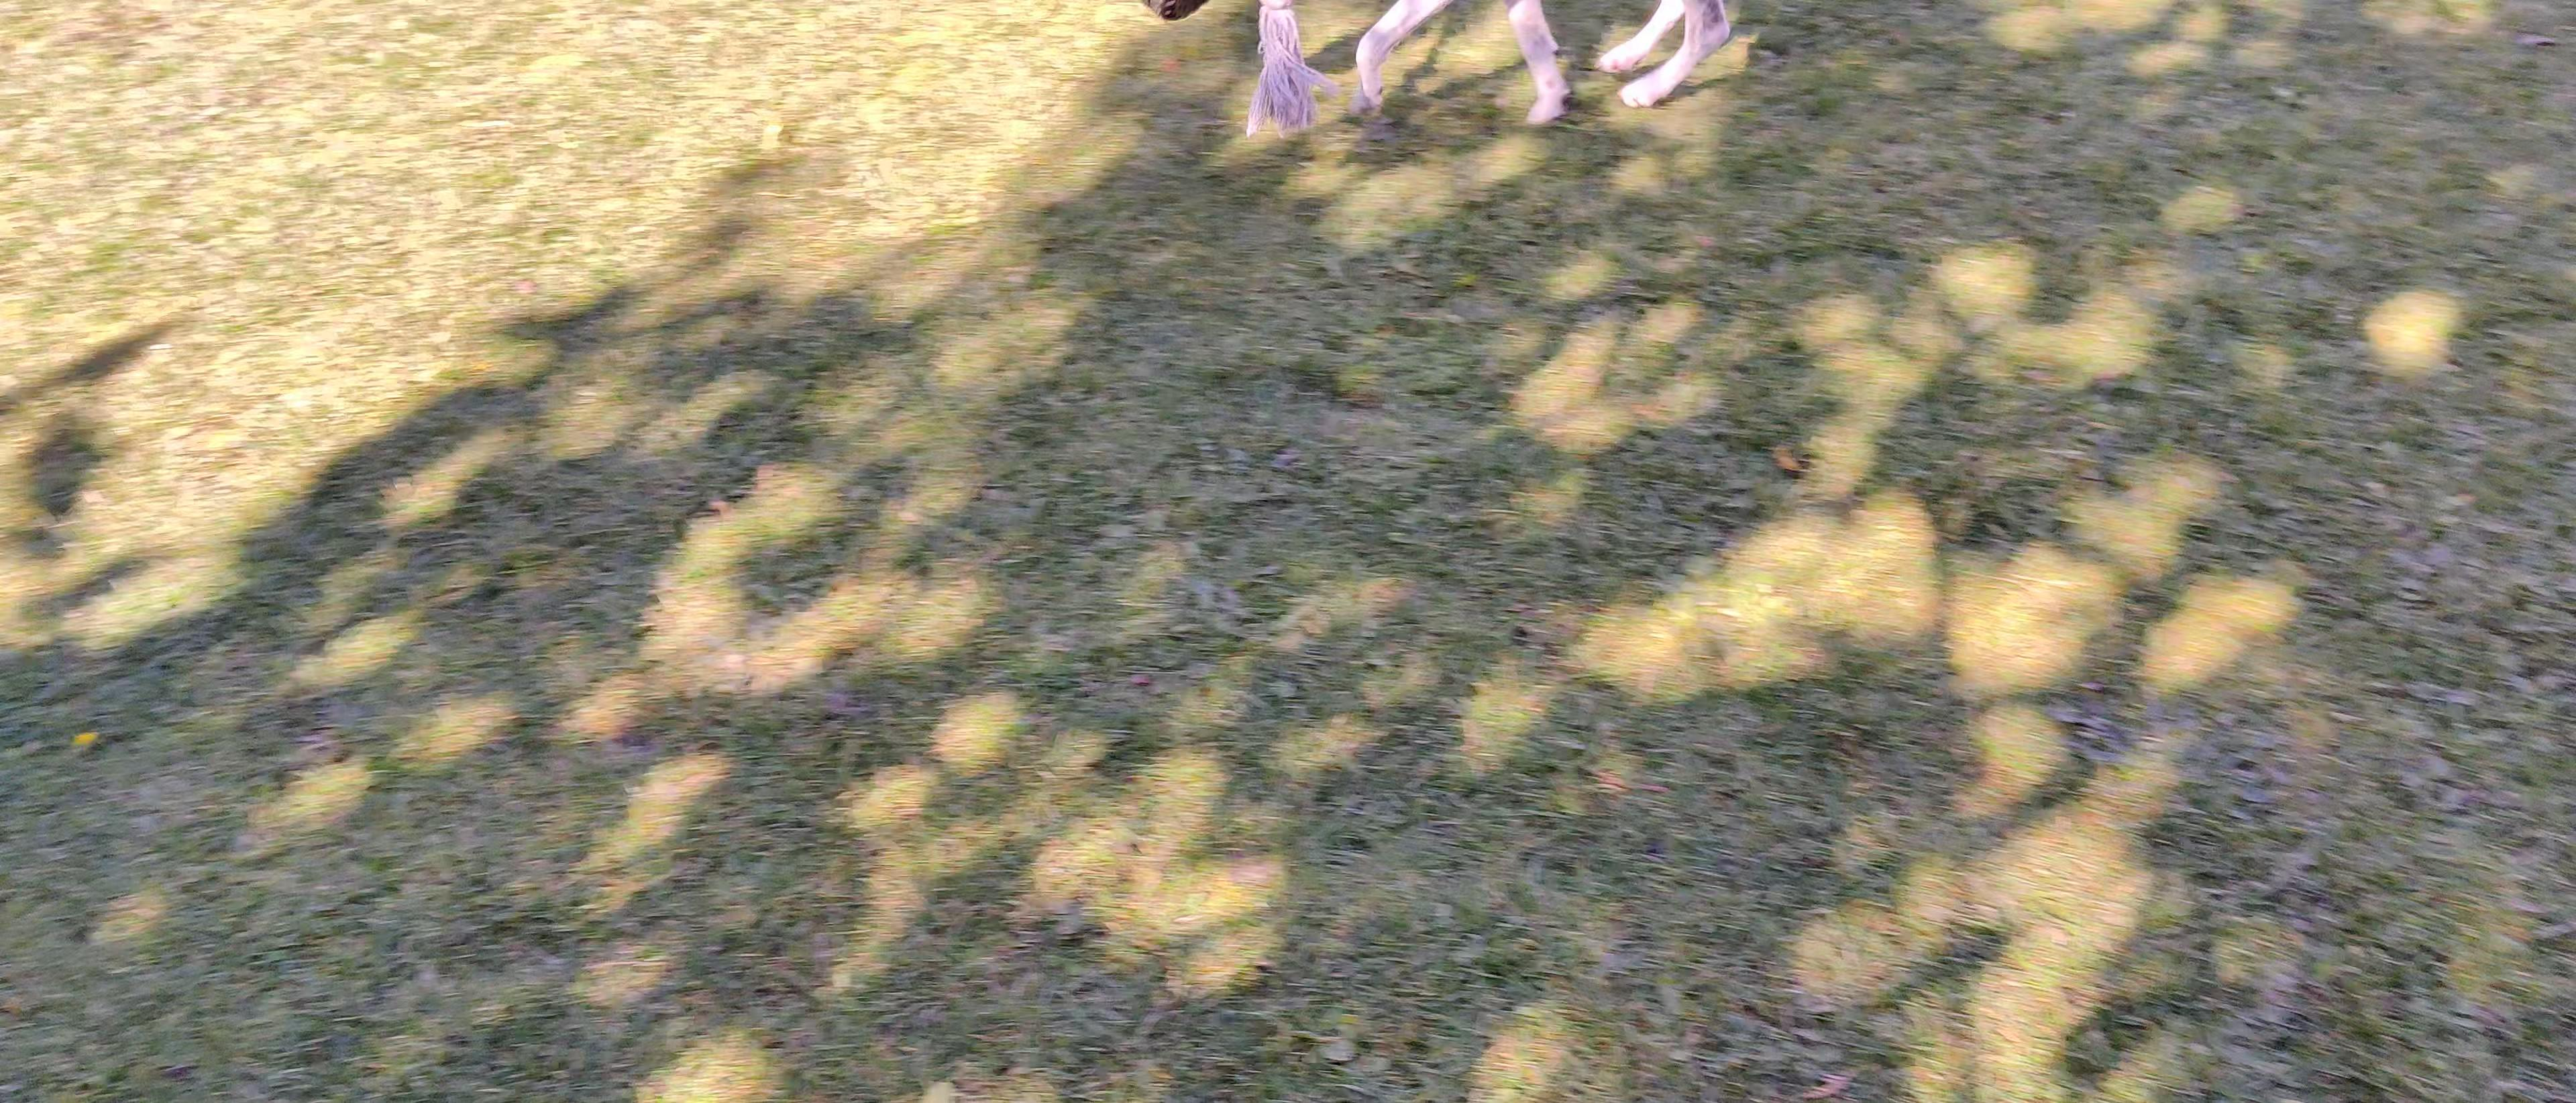Dog: (1342, 0, 1761, 140)
